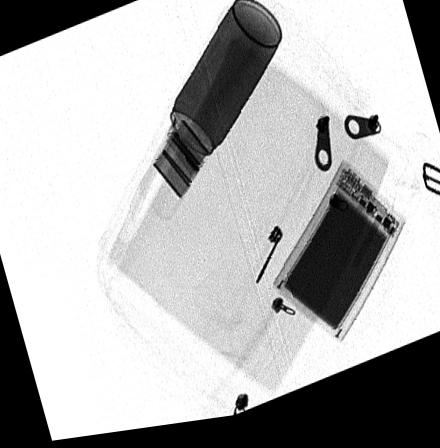Powerbank: (271, 167, 407, 354)
